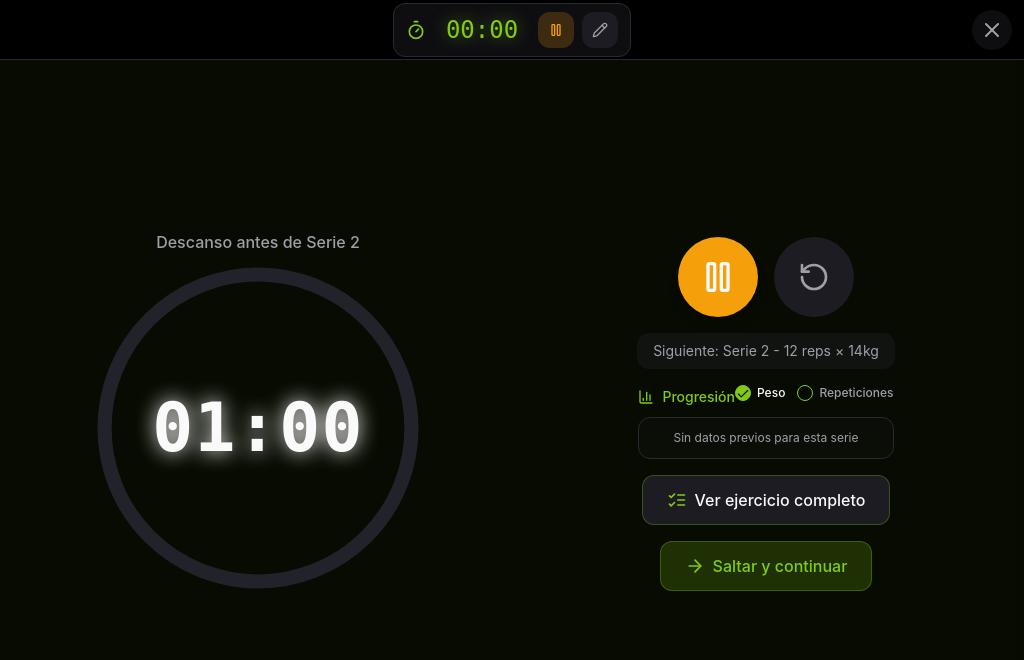
última serie: sin pérdida ni duplicación › tras completar 1,2,3,4 el resumen muestra 4 filas y 4 series completadas
Earlier steps of the test are not shown.
Click the button "Saltar y continuar".
click(766, 566)  # box [660,541,872,591]
(page scrolled)
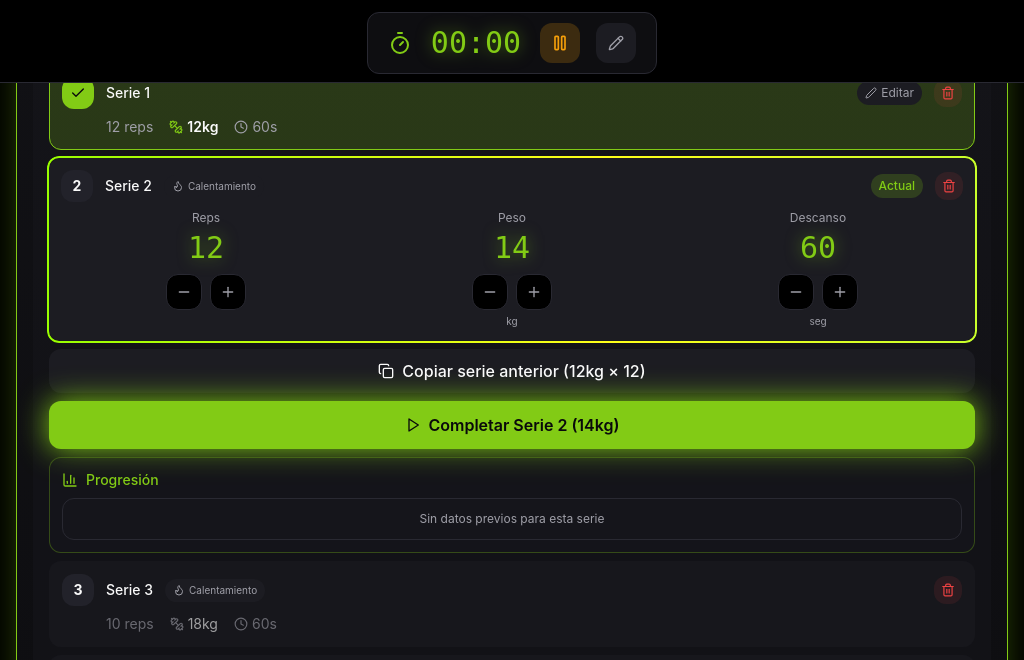
Click the button "Completar Serie 2 (14kg)".
click(512, 425)  # box [49,401,975,449]
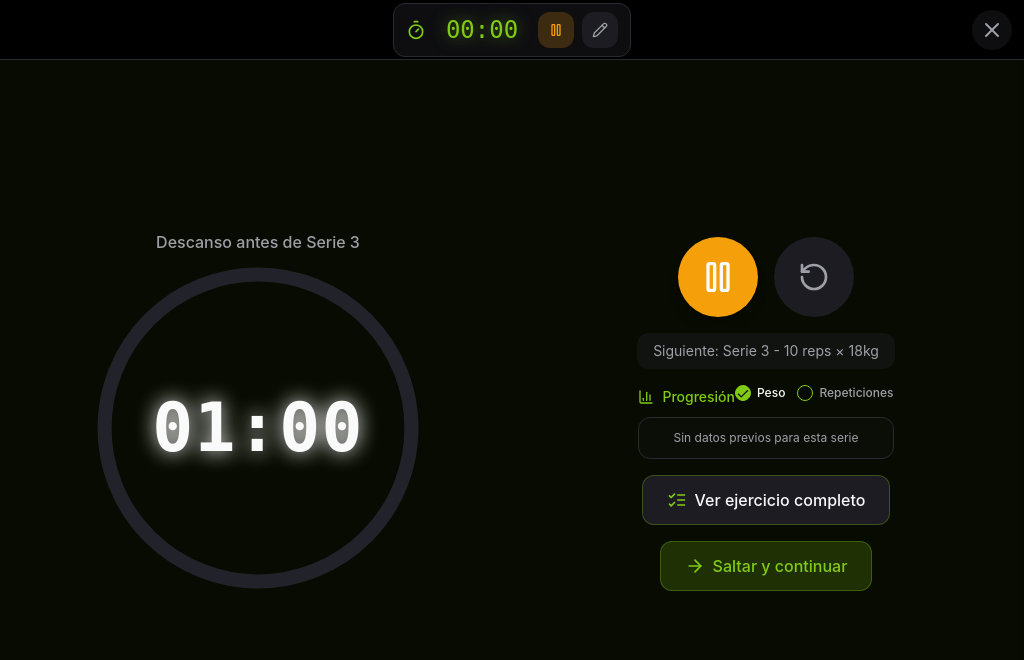
Click the button "Saltar y continuar".
click(766, 566)  # box [660,541,872,591]
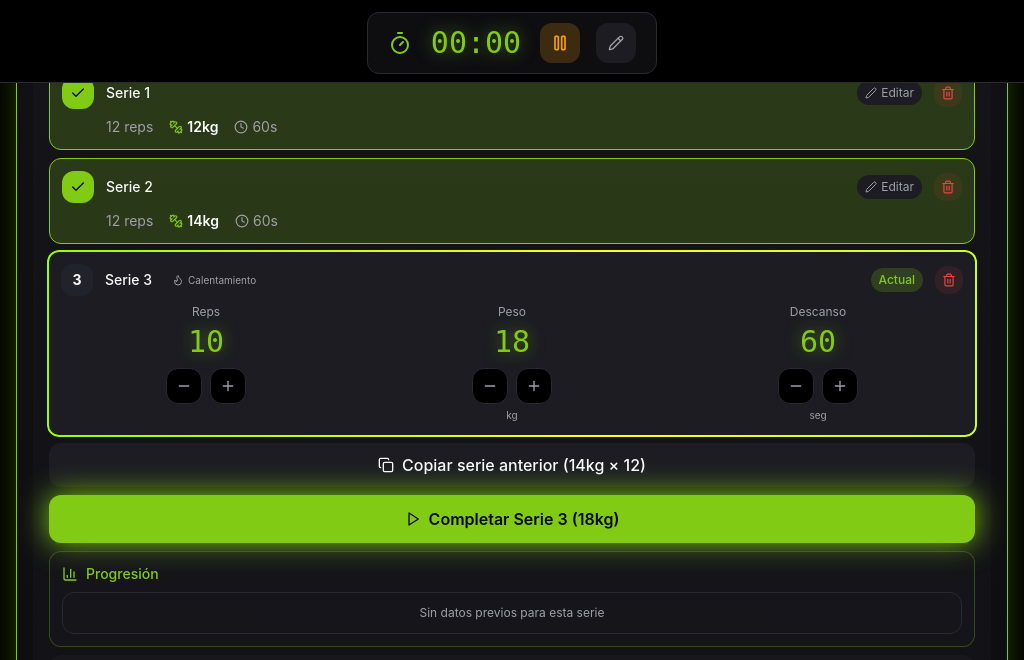
Click the button "Completar Serie 3 (18kg)".
click(512, 519)  # box [49,495,975,543]
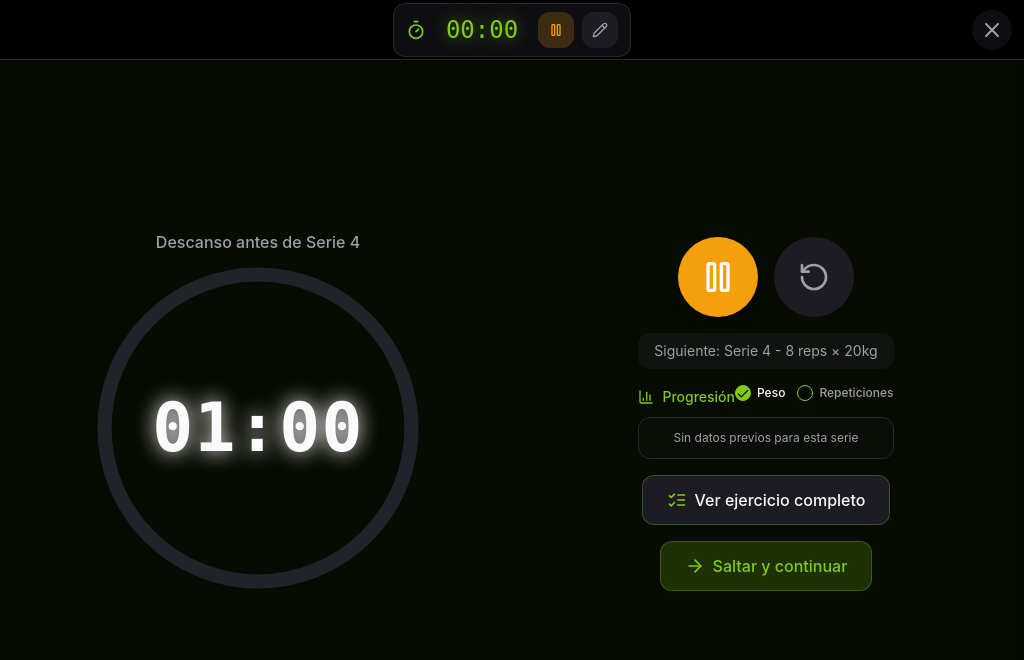
Click the button "Saltar y continuar".
click(766, 566)  # box [660,541,872,591]
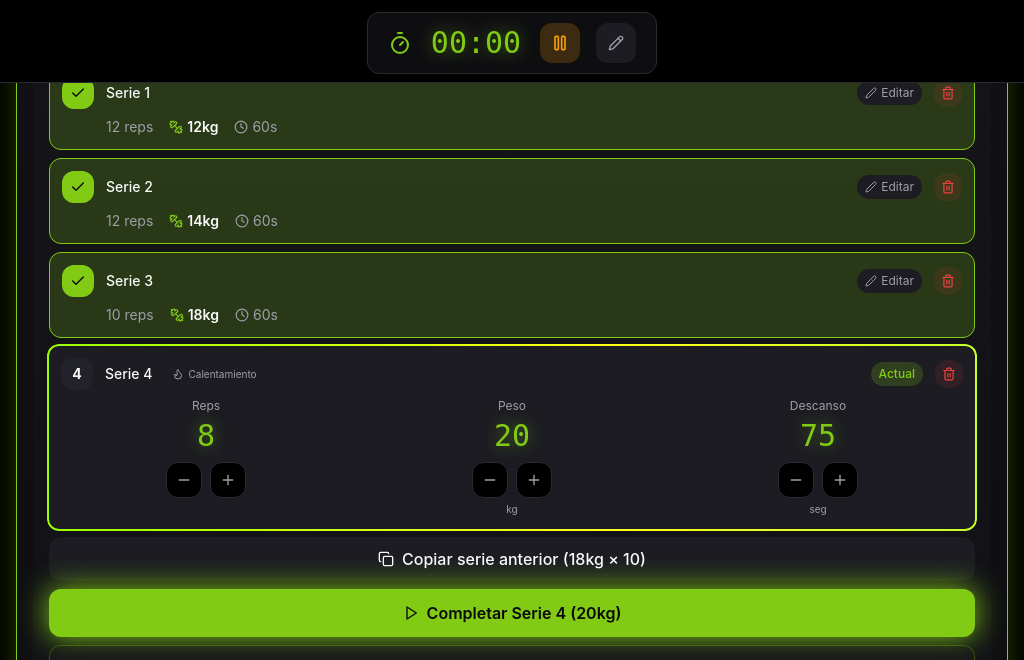
Click the button "Completar Serie 4 (20kg)".
click(512, 613)  # box [49,589,975,637]
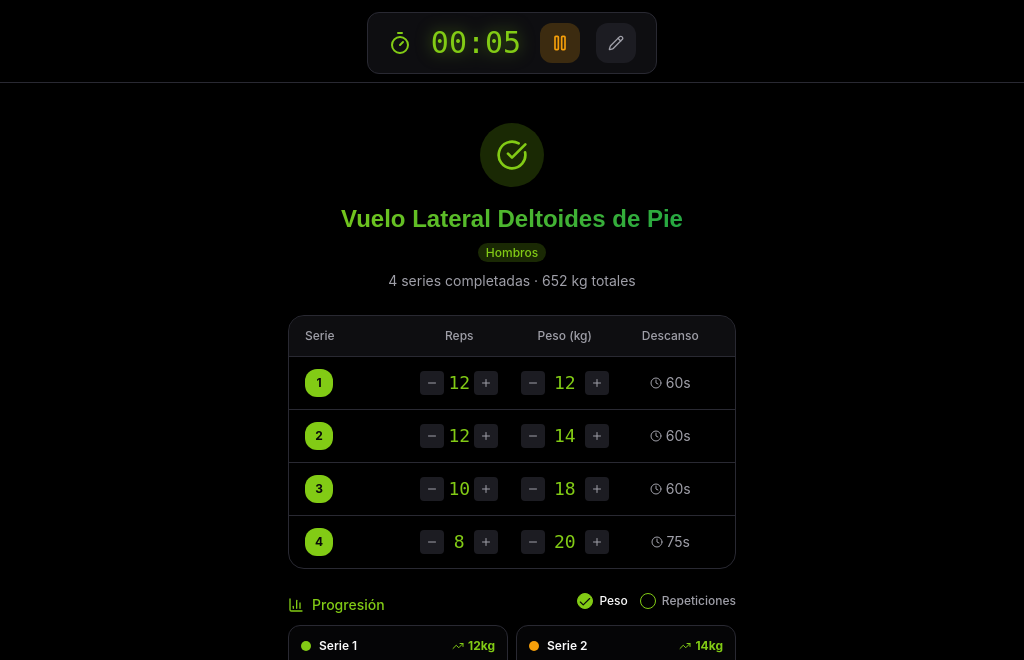
Expected: the text "4 series completadas · 652 kg totales" is shown, [388,272,636,289]
